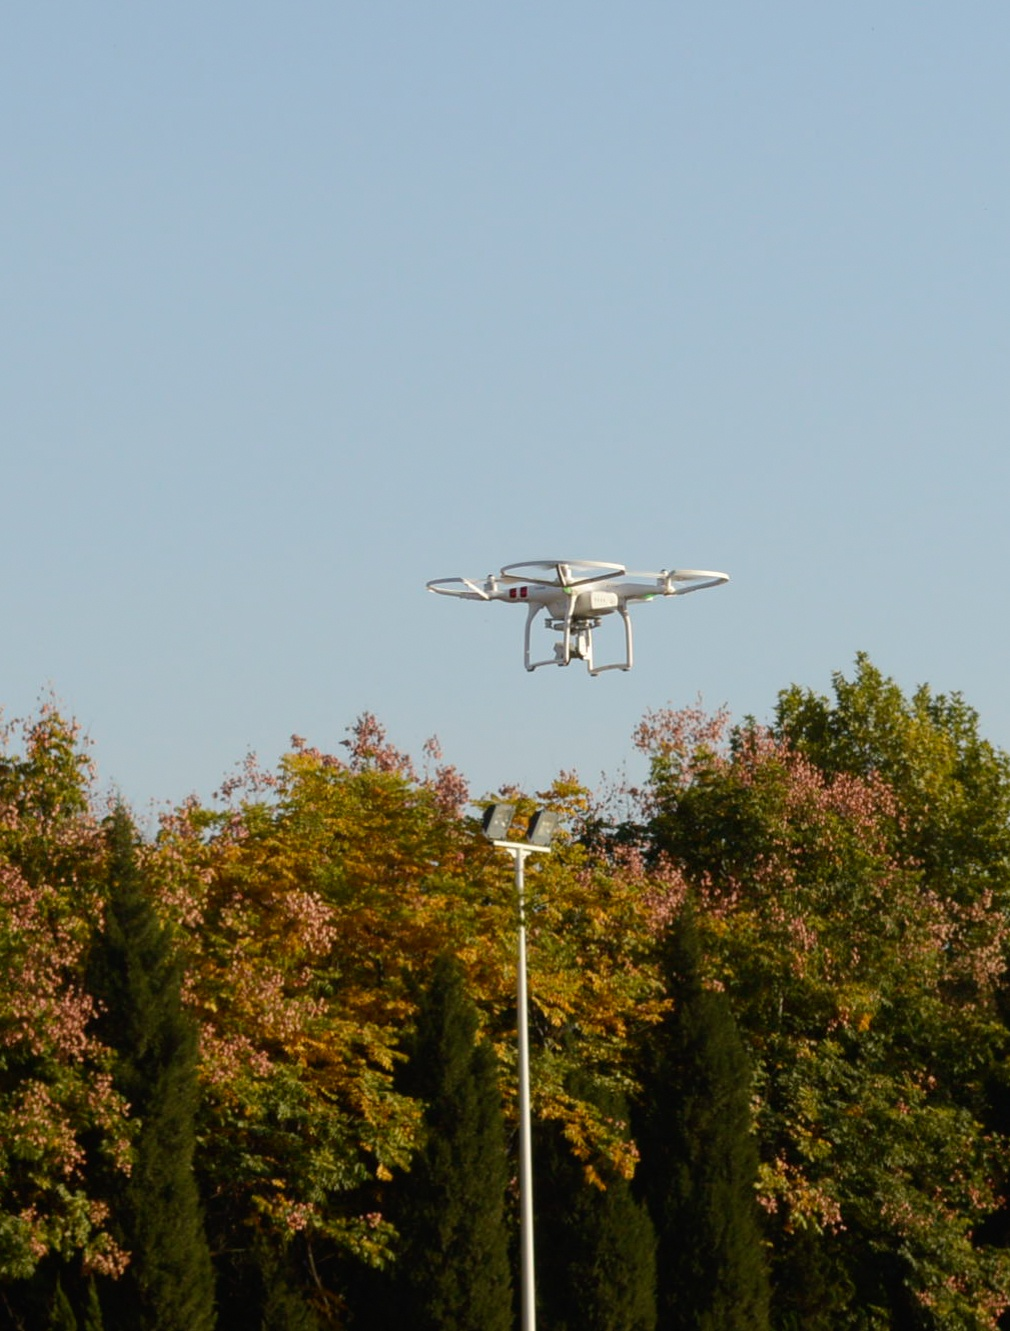DJI: (423, 557, 733, 682)
